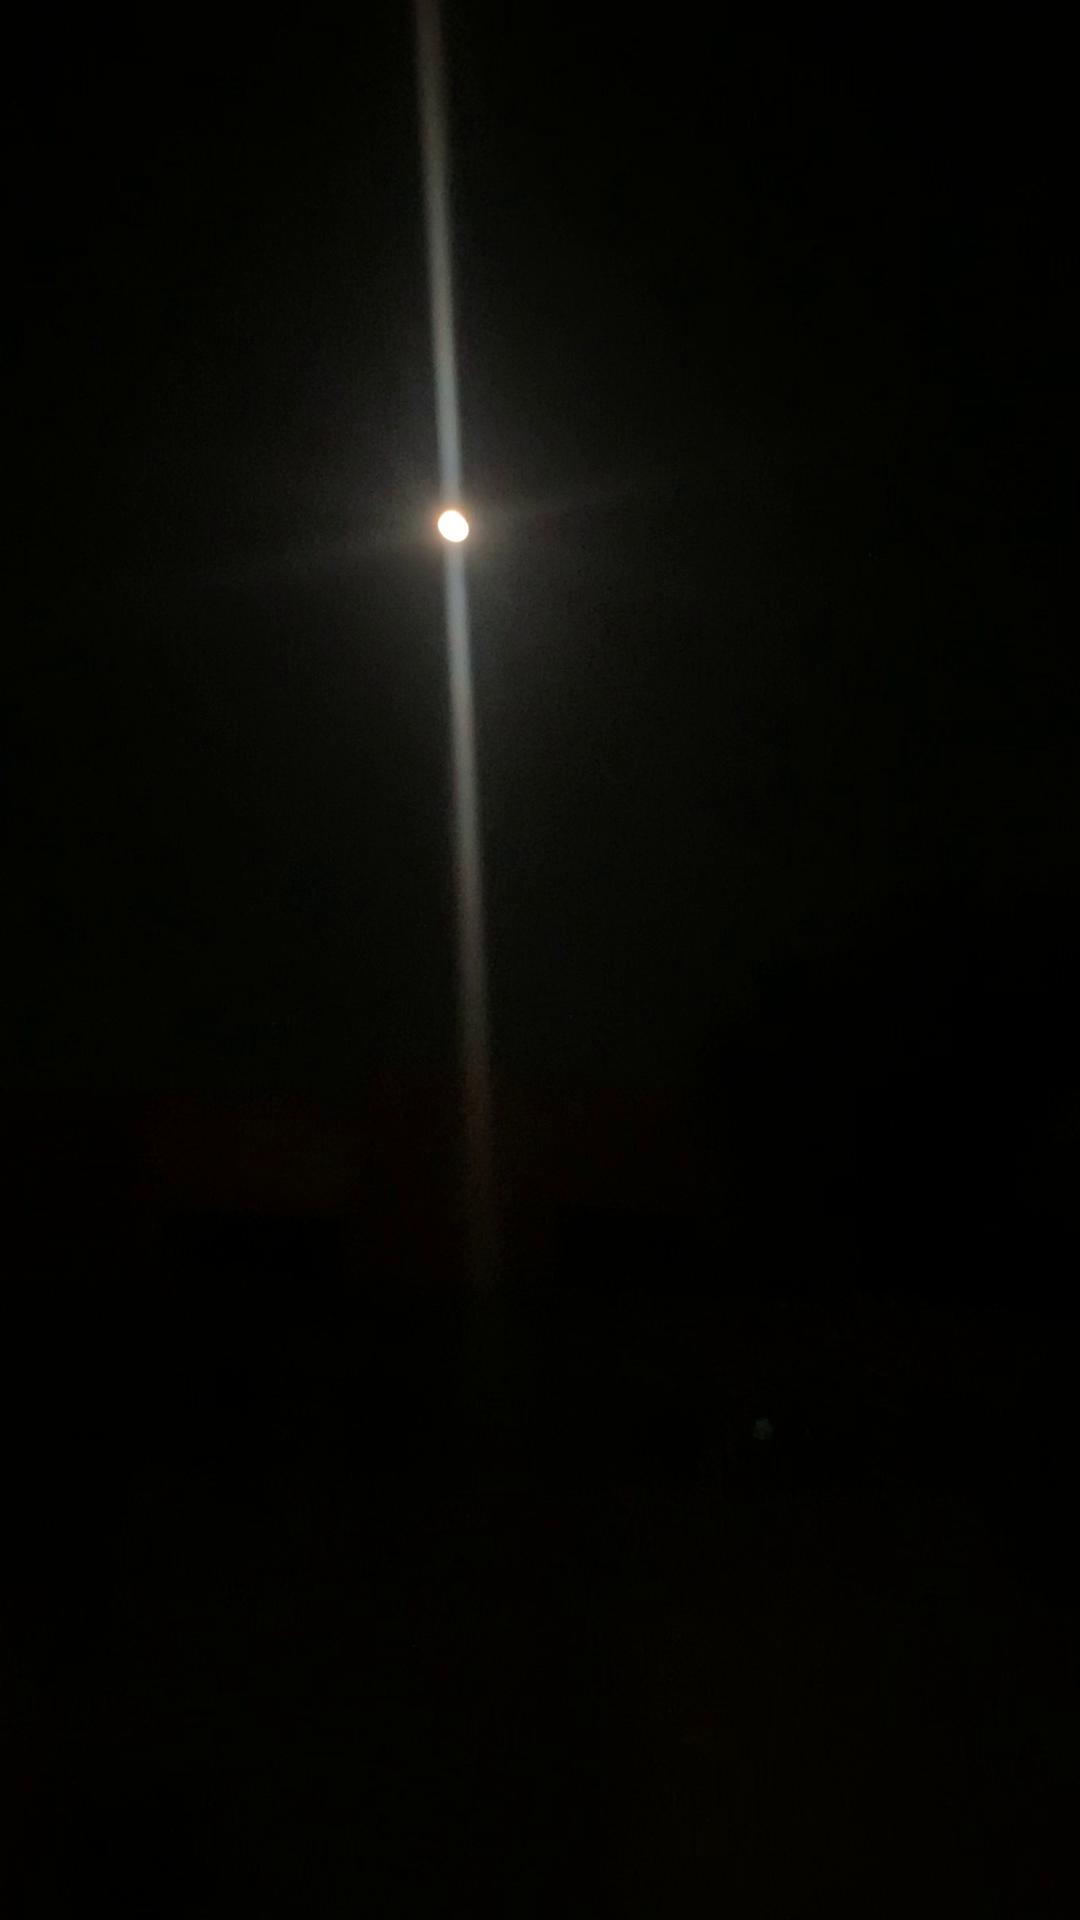moon: (386, 473, 495, 574)
